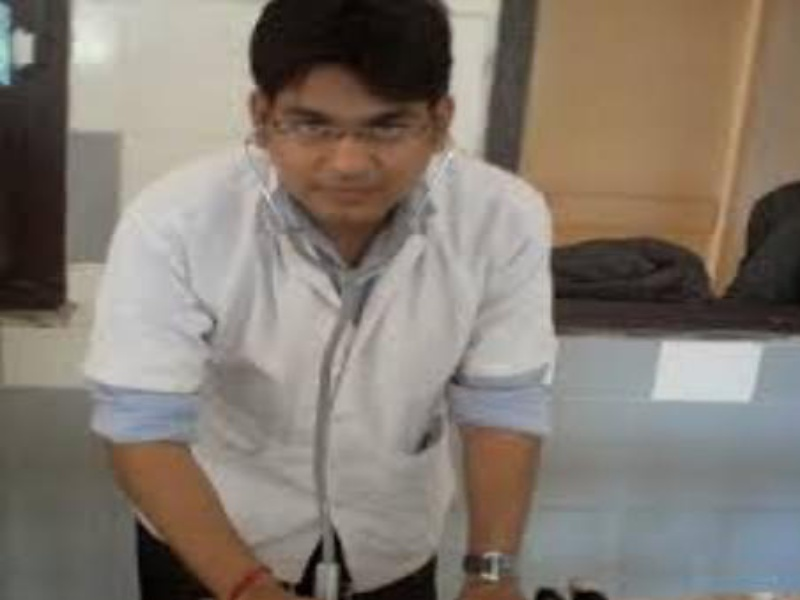TsisyArotava: (228, 4, 488, 254)
